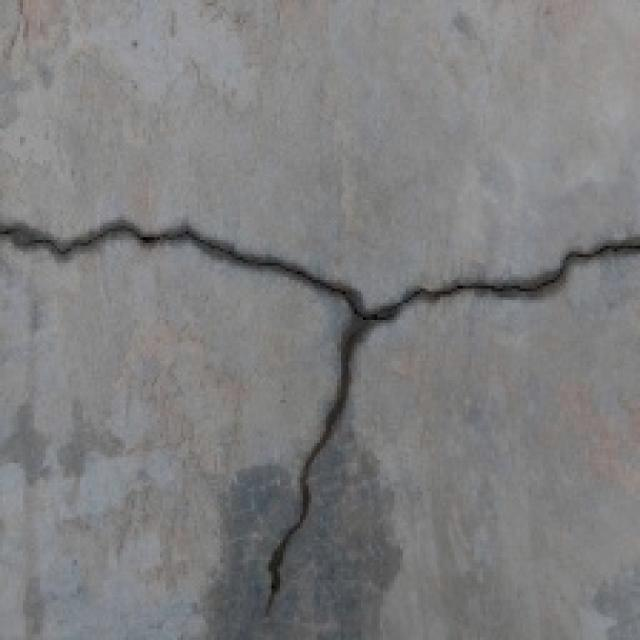SurfaceCrack: (4, 198, 640, 610)
